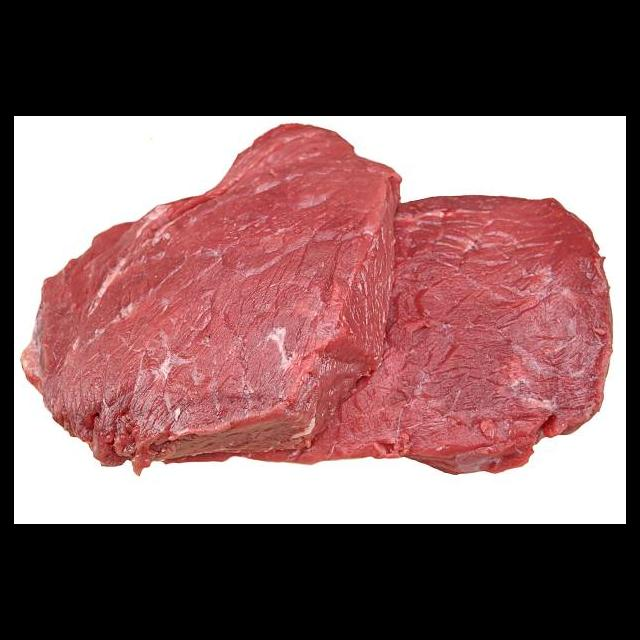beef: (20, 123, 617, 477)
